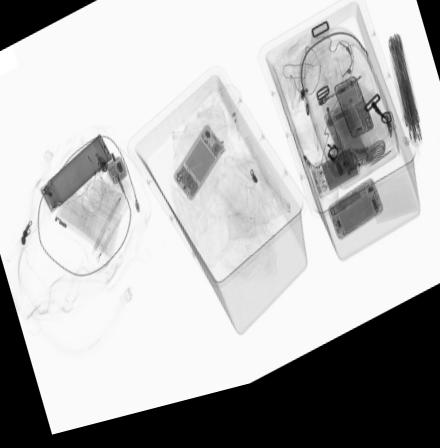Powerbank: (310, 163, 360, 215)
